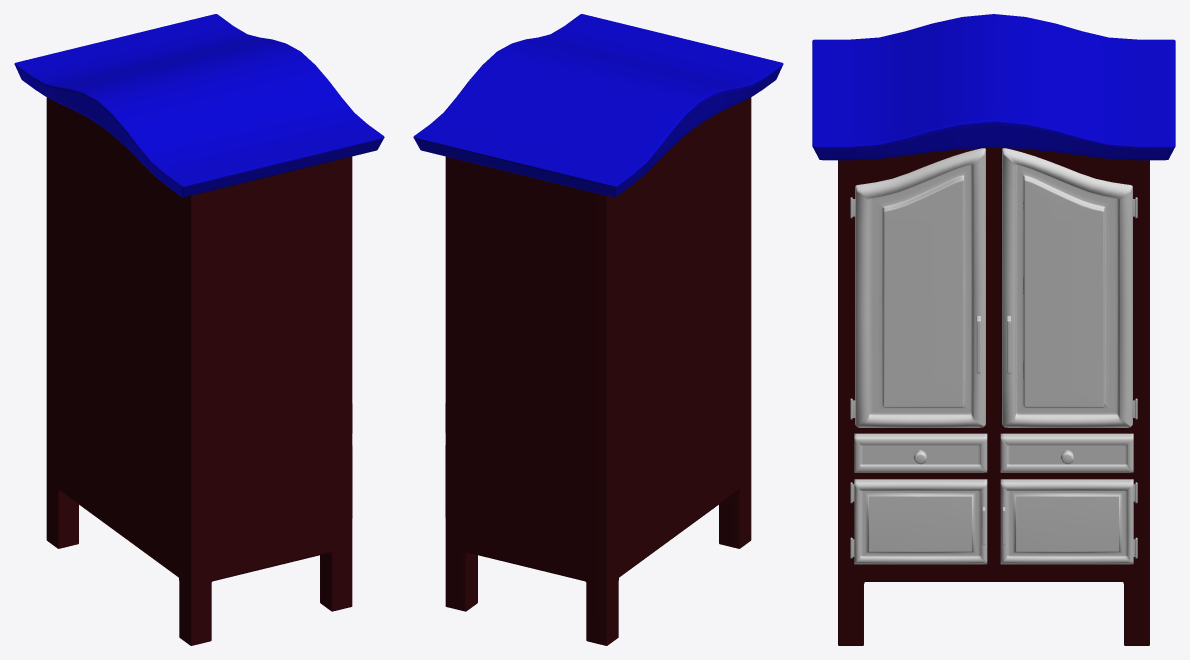
The model's file is Furniture_Wardrobe.fbx.
The picture shows the model from 3 angles, left to right: view 1: azimuth 30°, elevation 25°; view 2: azimuth 150°, elevation 25°; view 3: azimuth 270°, elevation 25°; orthographic projection. The views are drawn at different scales.
Visible parts, largest first — view 1: Wardrobe; view 2: Wardrobe; view 3: Wardrobe, Wardrobe_TopDoor, Wardrobe_TopDoor1, Wardrobe_Bottom_Cabinet, Wardrobe_Bottom_Cabinet1, Waredrobe_Drawer, Waredrobe_Drawer1.
Boxes of the visible parts, bbox=[...] form: Wardrobe: bbox=[14, 14, 384, 645]; Wardrobe: bbox=[413, 14, 783, 645]; Wardrobe: bbox=[812, 14, 1175, 645]; Wardrobe_TopDoor: bbox=[855, 148, 985, 427]; Wardrobe_TopDoor1: bbox=[1002, 148, 1132, 427]; Wardrobe_Bottom_Cabinet: bbox=[854, 479, 987, 564]; Wardrobe_Bottom_Cabinet1: bbox=[1000, 479, 1133, 564]; Waredrobe_Drawer: bbox=[854, 433, 987, 472]; Waredrobe_Drawer1: bbox=[1000, 433, 1133, 472].
Bounding box in the file's own units: 87.3 × 204 × 125.
